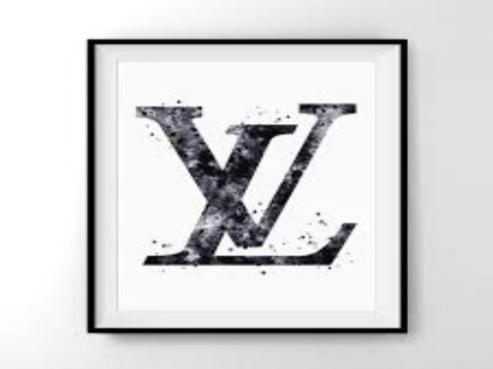LOUIS-VUITTON: (122, 89, 368, 280)
